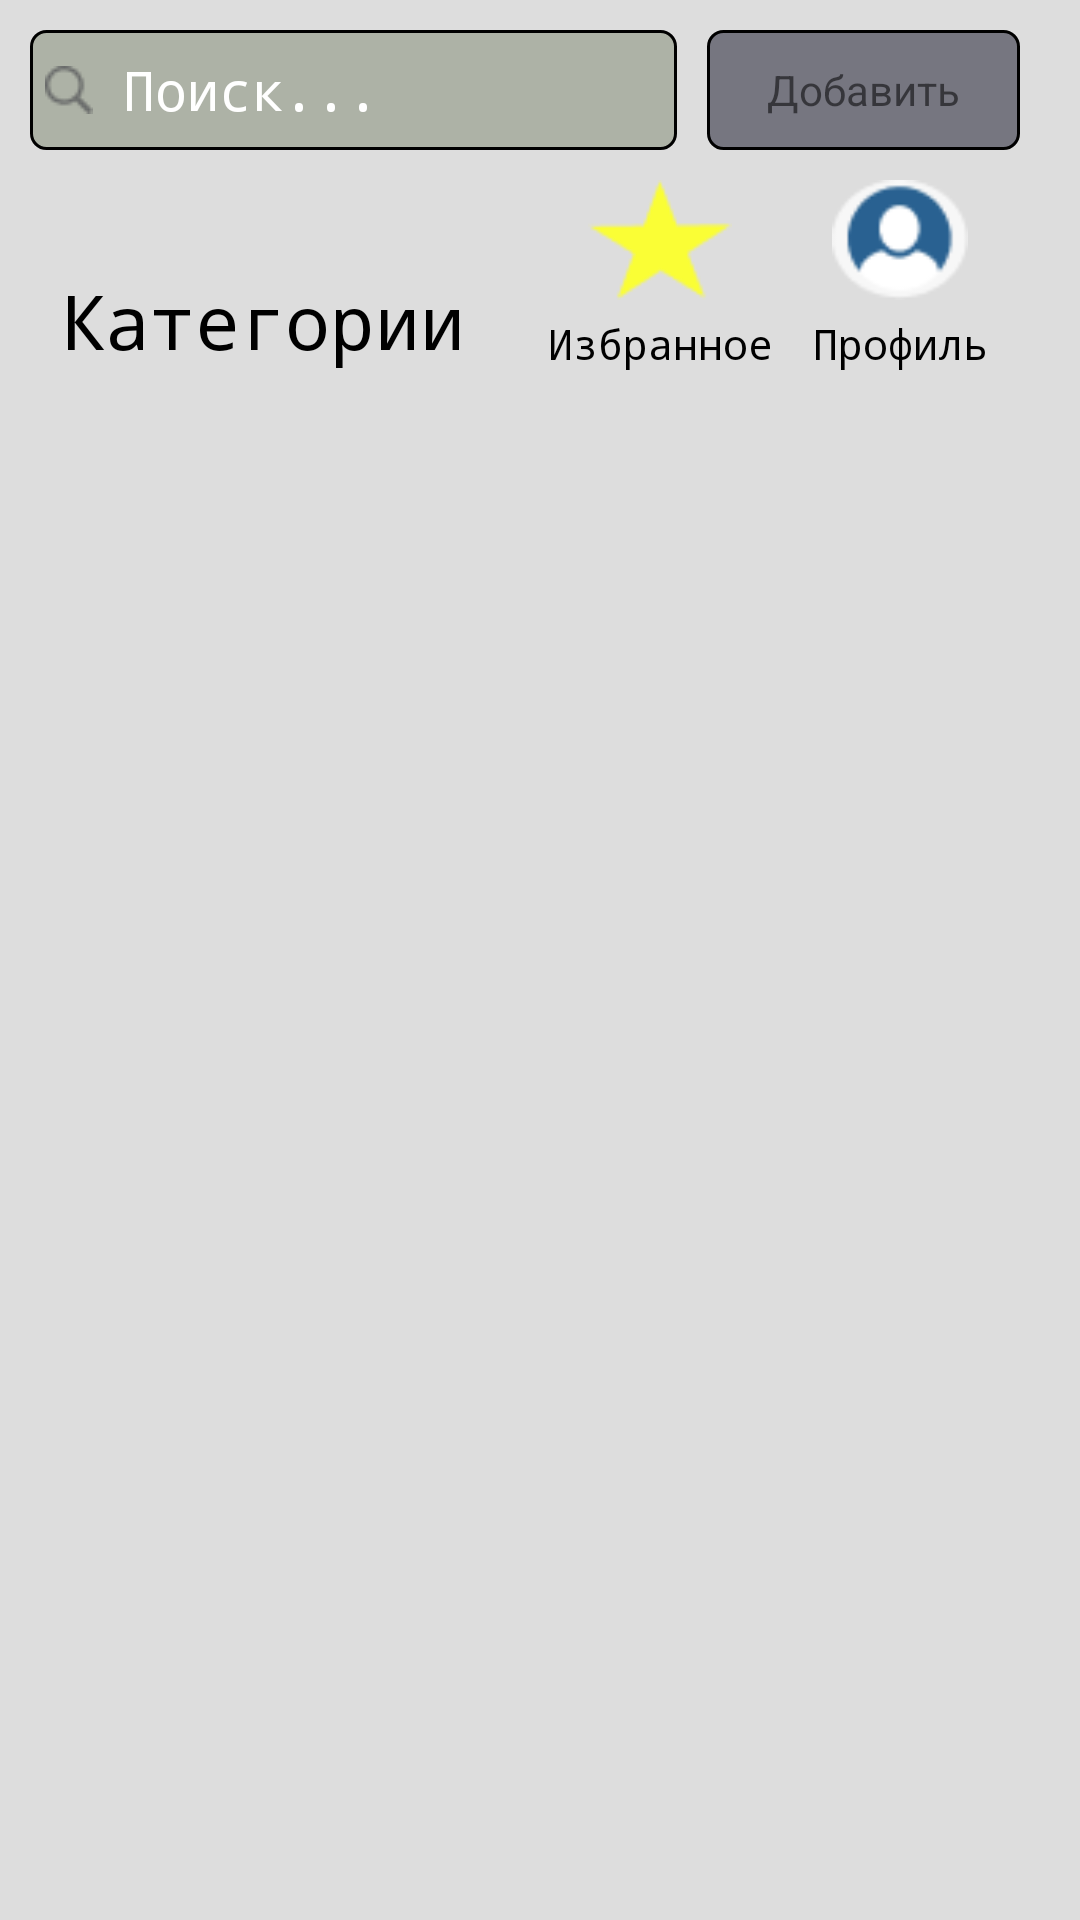

Locate icon controls on the screen. Image size 1080x1920, boxes as box=[x1, y1, x2, y2].
star: box=[591, 180, 730, 298]
